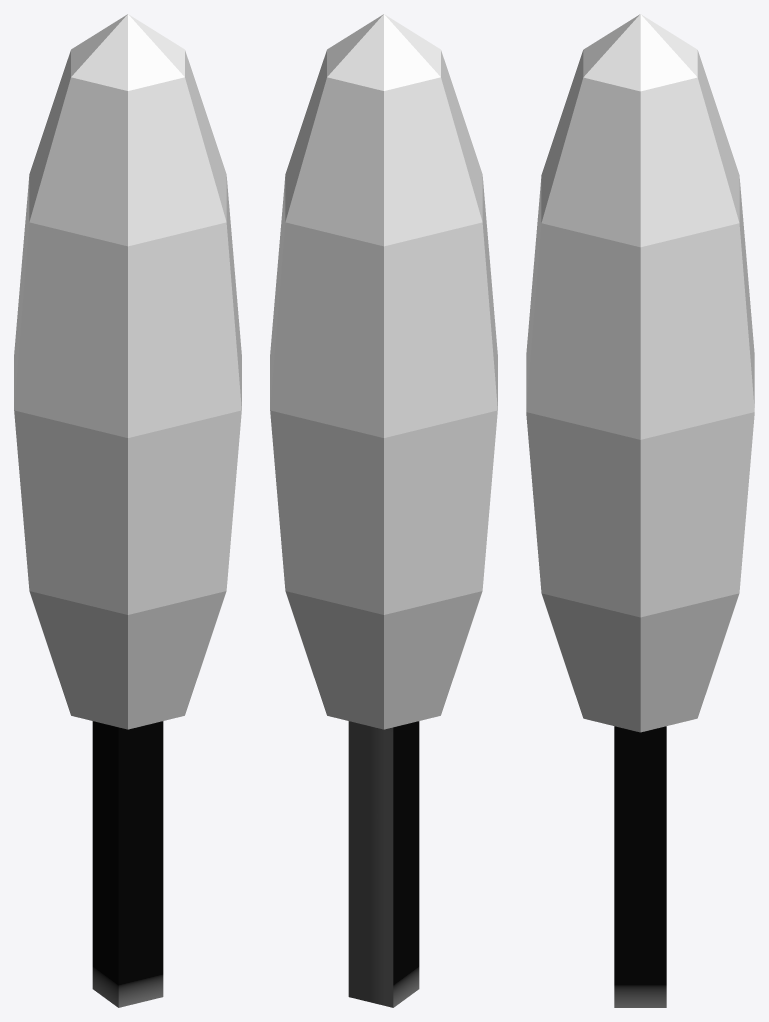
The model's file is Tree05.fbx.
3 renders of one model, left to right at view 1: azimuth 30°, elevation 25°; view 2: azimuth 150°, elevation 25°; view 3: azimuth 270°, elevation 25°, orthographic.
Parts seen in each view (by area): view 1: Tree05; view 2: Tree05; view 3: Tree05.
Part boxes in pixels (<box>): Tree05: <box>14,14,241,1007</box>; Tree05: <box>270,14,497,1007</box>; Tree05: <box>526,14,754,1007</box>.
Bounding box in the file's own units: 0.6105 × 2.51 × 0.5287.
